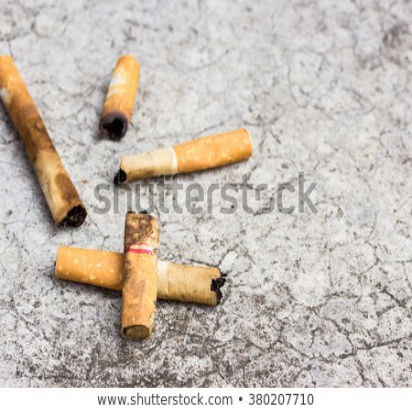cigarette: (1, 54, 94, 231), (50, 240, 227, 308), (106, 130, 256, 183), (120, 209, 160, 345), (98, 47, 142, 141)
